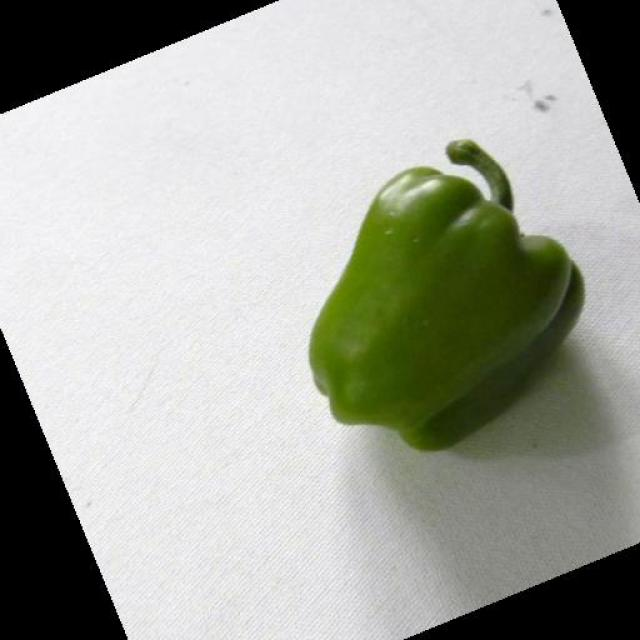Fresh_Capsicum: (256, 150, 574, 442)
